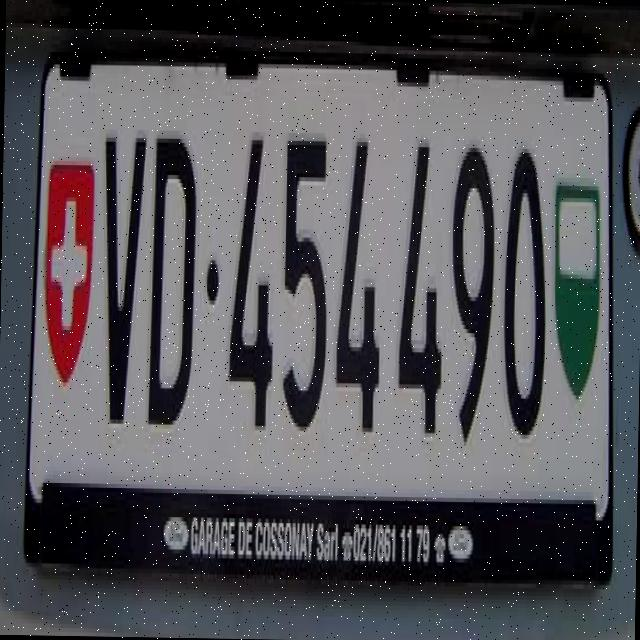Autre: (31, 64, 608, 502)
